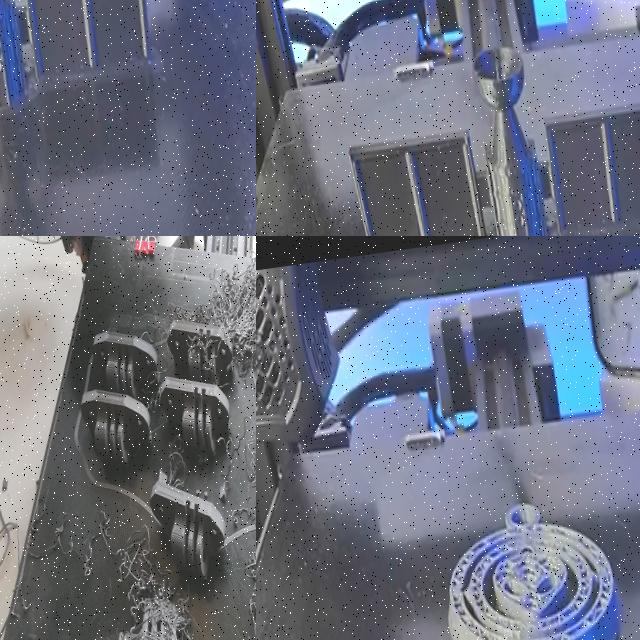spaghetti: (148, 242, 256, 399), (95, 519, 205, 640), (18, 482, 114, 581)
